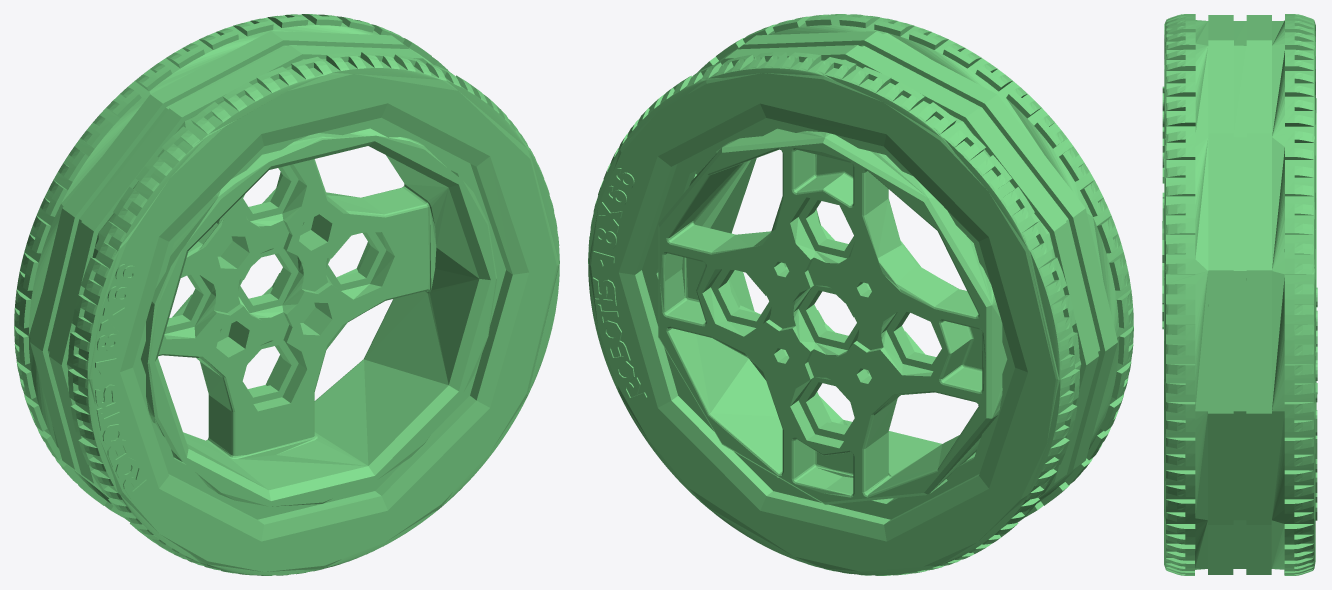
File: wheel_left_link.glb
3 views of the same model, side by side, from view 1: azimuth 30°, elevation 25°; view 2: azimuth 150°, elevation 25°; view 3: azimuth 270°, elevation 25° (orthographic).
Visible parts, largest first — view 1: wheel_left_link; view 2: wheel_left_link; view 3: wheel_left_link.
Boxes of the visible parts, x1,y1,x2,y2 form: wheel_left_link: (14, 14, 559, 575); wheel_left_link: (588, 14, 1133, 575); wheel_left_link: (1162, 14, 1317, 575).
Bounding box in the file's own units: 0.066 × 0.066 × 0.0182.
